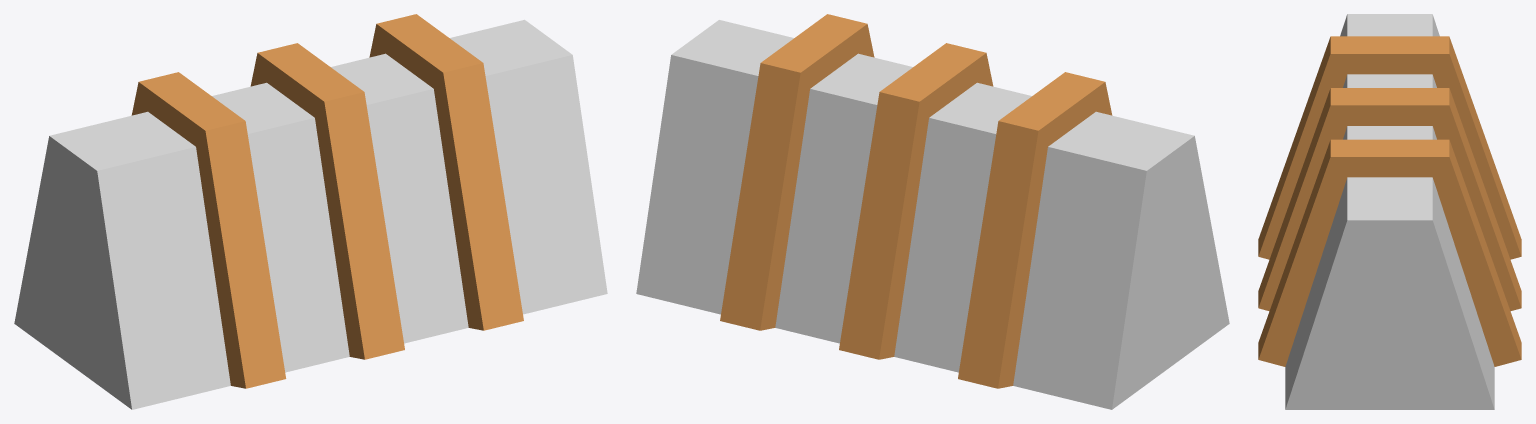
File: barrier_edited.fbx
The picture shows the model from 3 angles, left to right: view 1: azimuth 30°, elevation 25°; view 2: azimuth 150°, elevation 25°; view 3: azimuth 270°, elevation 25°; orthographic projection. The views are drawn at different scales.
Parts seen in each view (by area): view 1: barrier, barrier.004, barrier.005, barrier.006, barrier.003, barrier.001, barrier.002; view 2: barrier, barrier.004, barrier.005, barrier.006, barrier.001, barrier.003, barrier.002; view 3: barrier.004, barrier.003, barrier.001, barrier.002, barrier, barrier.005, barrier.006.
Part boxes in pixels (x1=…): barrier: x1=14, y1=111, x2=230, y2=409; barrier.004: x1=450, y1=19, x2=607, y2=314; barrier.005: x1=331, y1=53, x2=468, y2=343; barrier.006: x1=212, y1=82, x2=349, y2=372; barrier.003: x1=369, y1=14, x2=523, y2=330; barrier.001: x1=131, y1=72, x2=286, y2=388; barrier.002: x1=250, y1=43, x2=404, y2=359; barrier: x1=1013, y1=111, x2=1229, y2=409; barrier.004: x1=636, y1=20, x2=793, y2=314; barrier.005: x1=775, y1=53, x2=912, y2=343; barrier.006: x1=894, y1=82, x2=1031, y2=372; barrier.001: x1=958, y1=72, x2=1112, y2=388; barrier.003: x1=720, y1=14, x2=874, y2=330; barrier.002: x1=839, y1=43, x2=993, y2=359; barrier.004: x1=1285, y1=177, x2=1494, y2=409; barrier.003: x1=1258, y1=139, x2=1521, y2=366; barrier.001: x1=1258, y1=36, x2=1521, y2=259; barrier.002: x1=1258, y1=88, x2=1521, y2=311; barrier: x1=1340, y1=14, x2=1439, y2=36; barrier.005: x1=1343, y1=126, x2=1436, y2=139; barrier.006: x1=1343, y1=74, x2=1436, y2=87.
Bounding box in the file's own units: 249 × 118 × 134.
